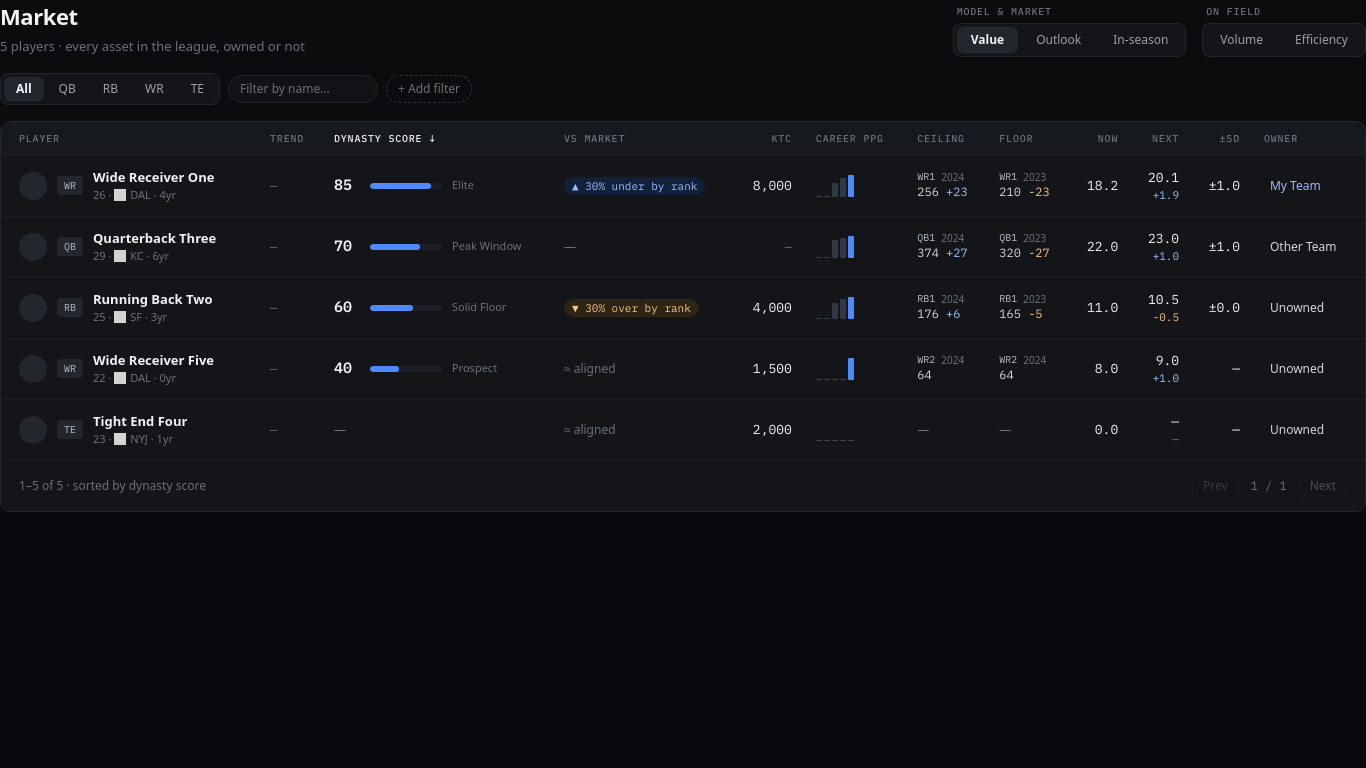
Scenario: Market › filters (1b Slice vi) › a pill's × clears one dimension and leaves the other active
Click the button "+ Add filter": (429, 88) [386,74,472,102]
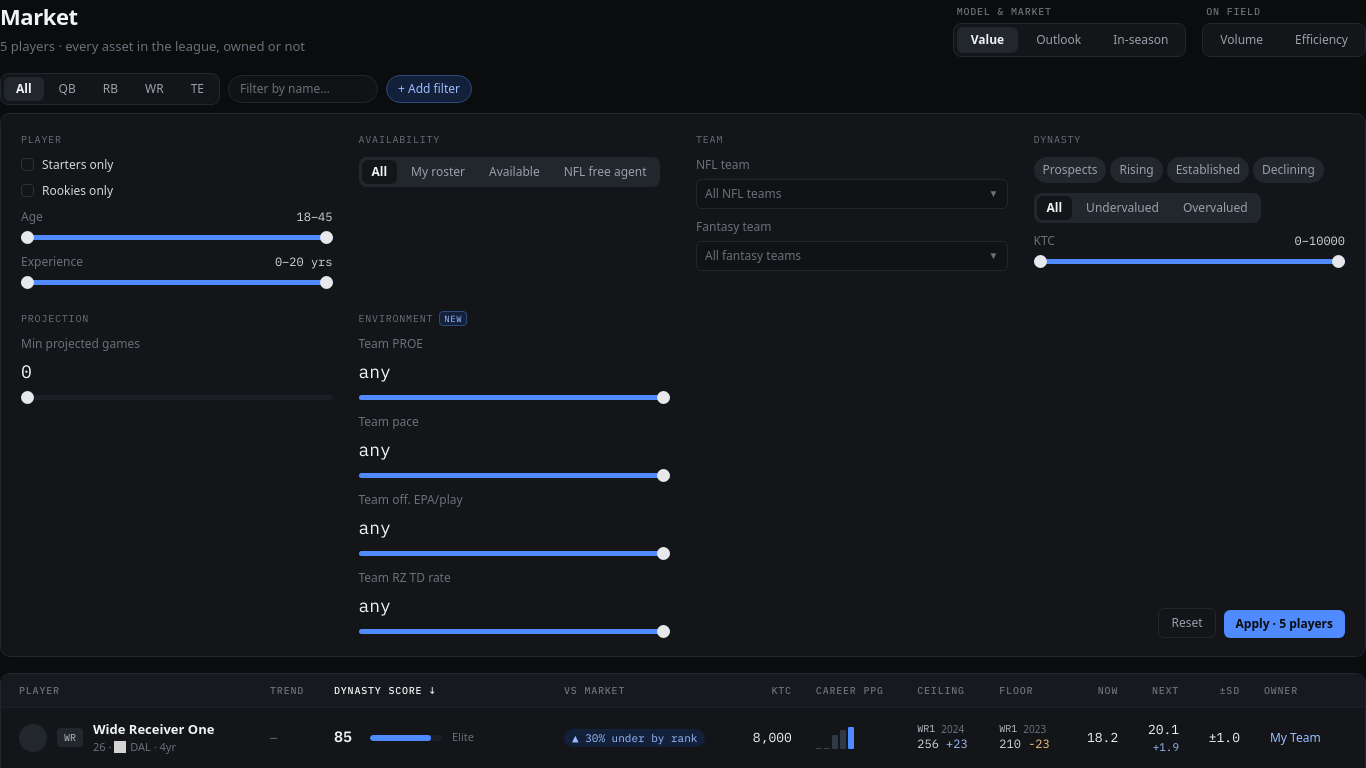
Click the button "My roster": (438, 172) [401,160,475,184]
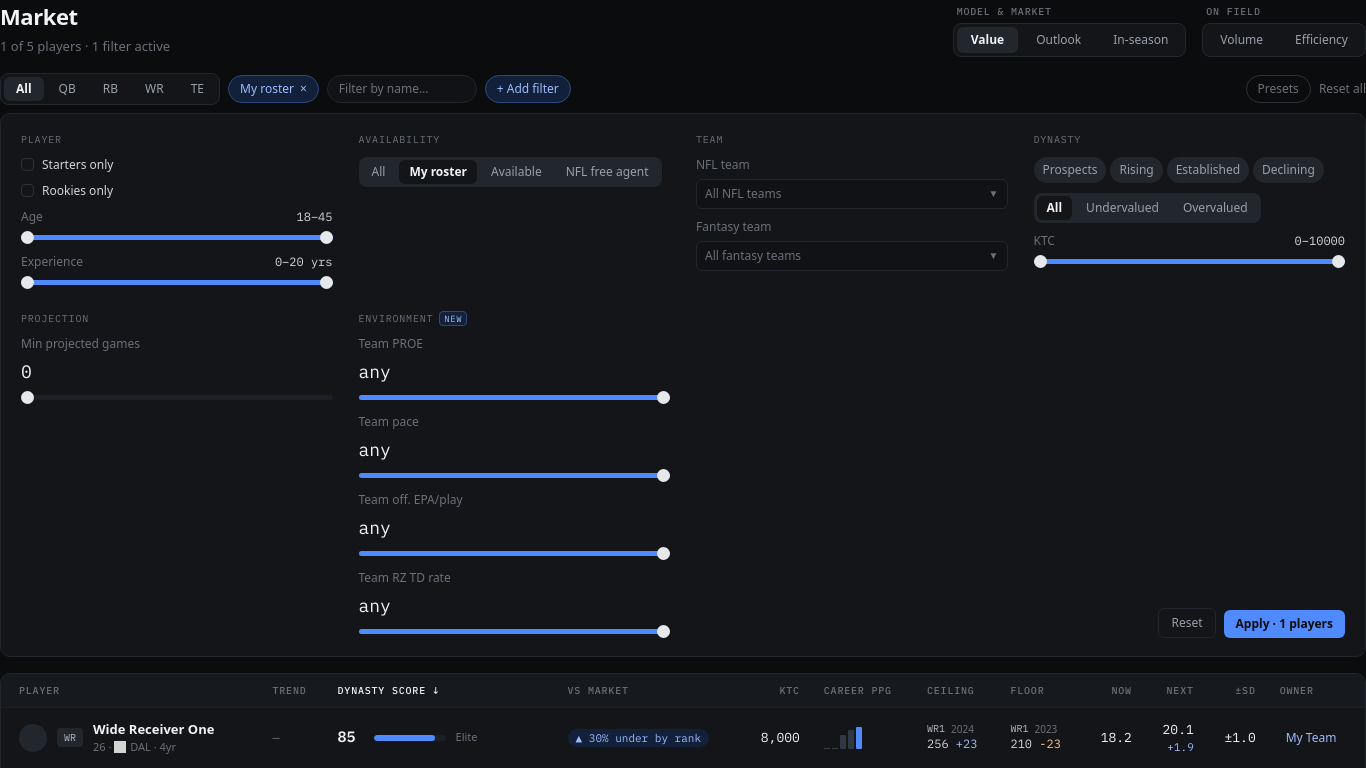
Click the checkbox labelled "Rookies only": (67, 190) [21,182,113,198]
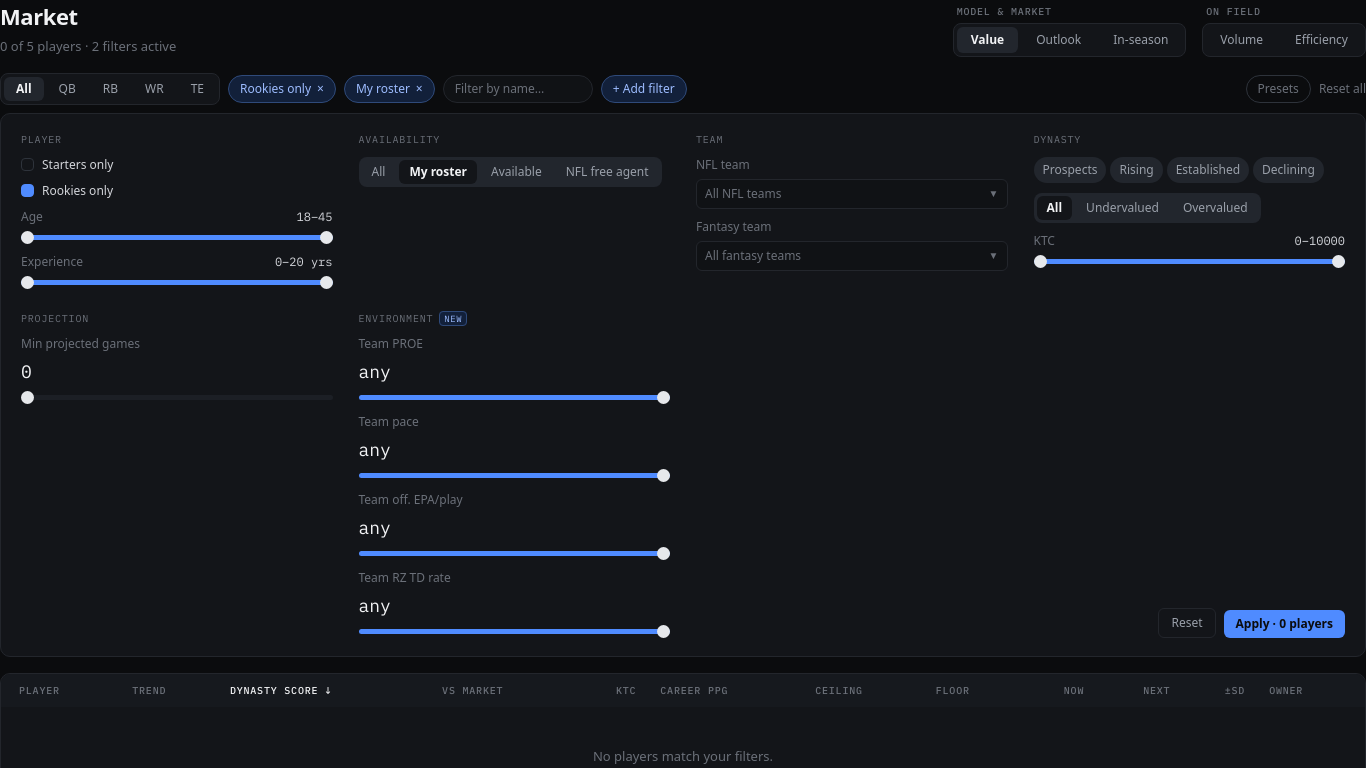
Click the button "Apply · 0 players": (1284, 624) [1224,610,1345,638]
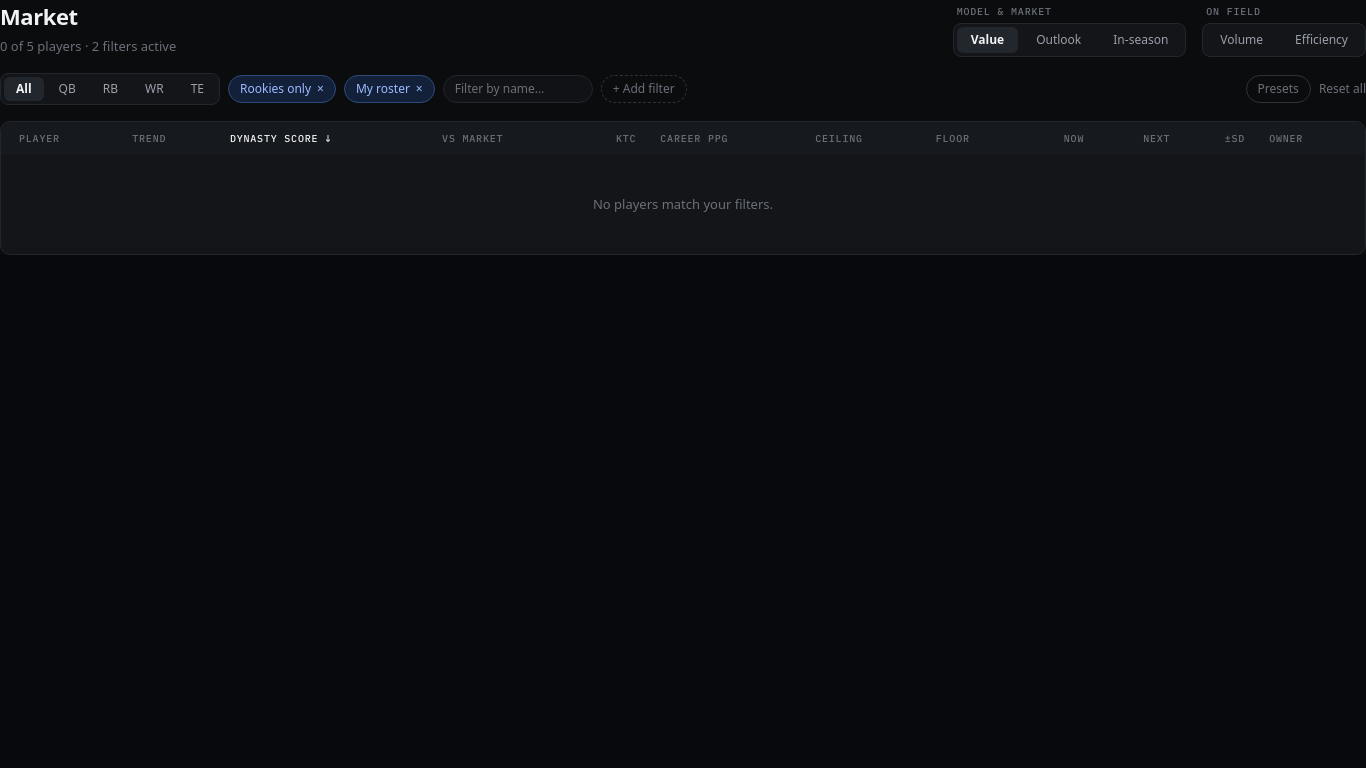
Expected: the text "My roster" is shown, [356,80,410,96]
Expected: the text "Rookies only" is shown, [240,80,311,96]
Click the button named "Clear My roster": (419, 88) [416,82,423,94]
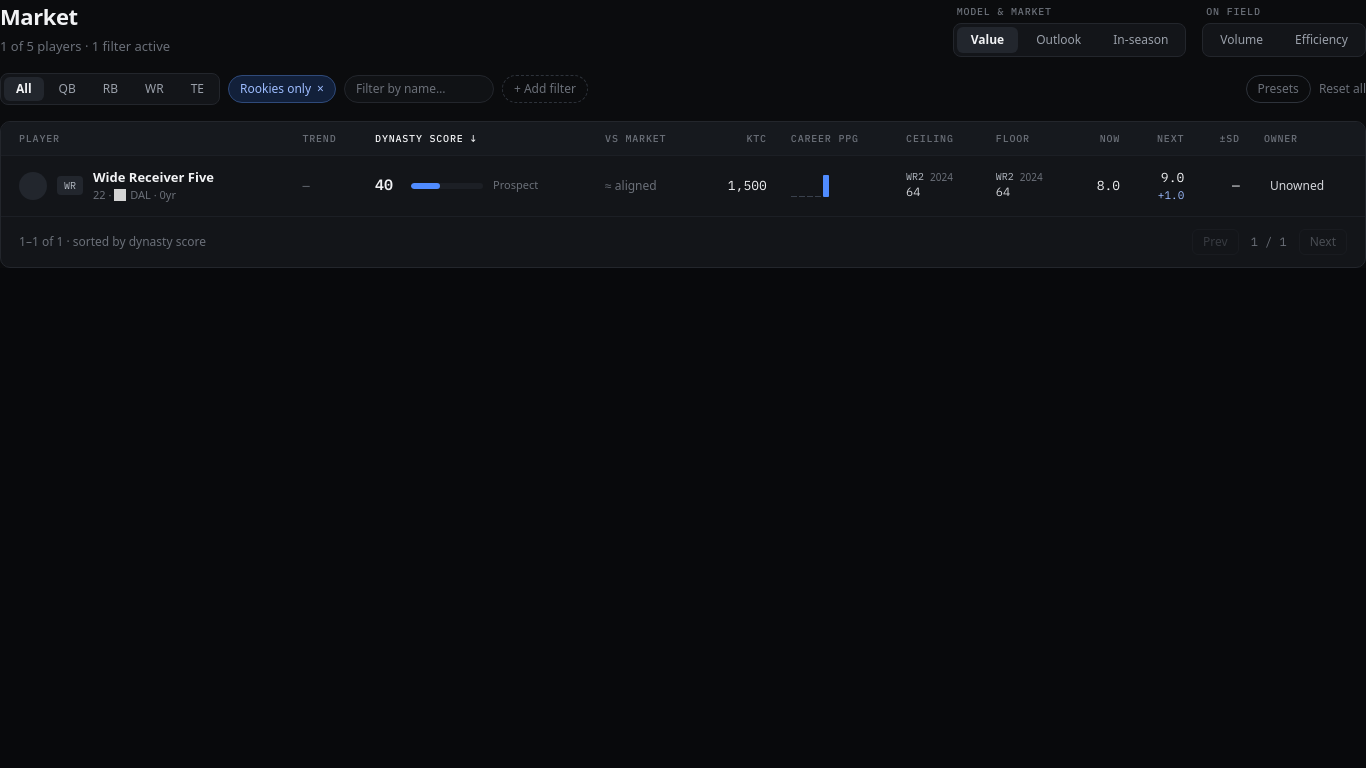
Expected: the text "Rookies only" is shown, [240,80,311,96]
Expected: the text "My roster" is gone
